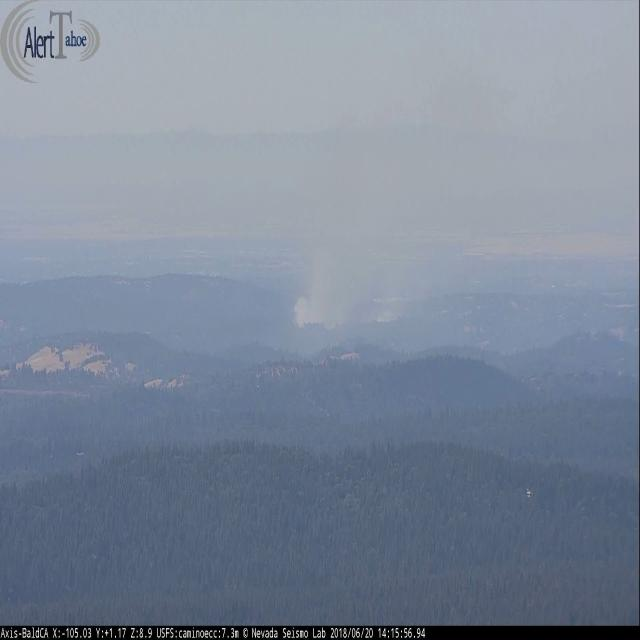smoke: (295, 264, 400, 332)
